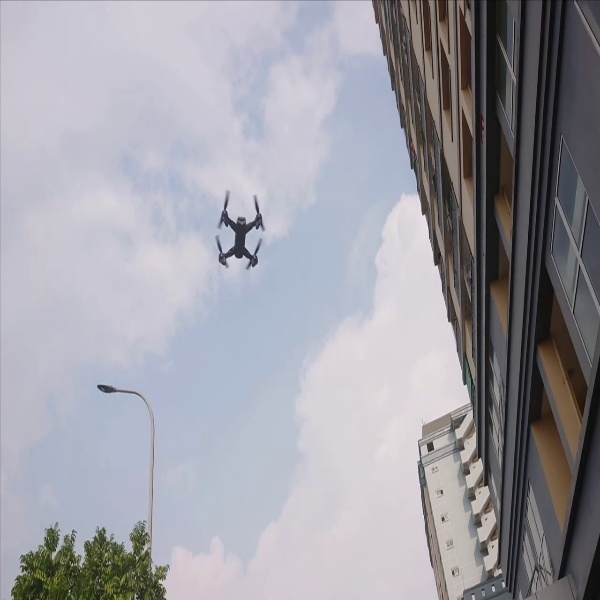drone: (203, 180, 276, 276)
